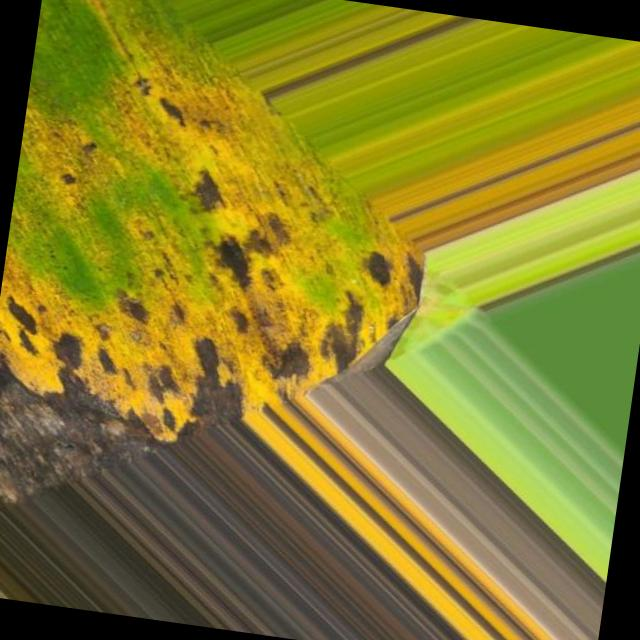Banana_Black_Sigatoka: (0, 86, 438, 549)
